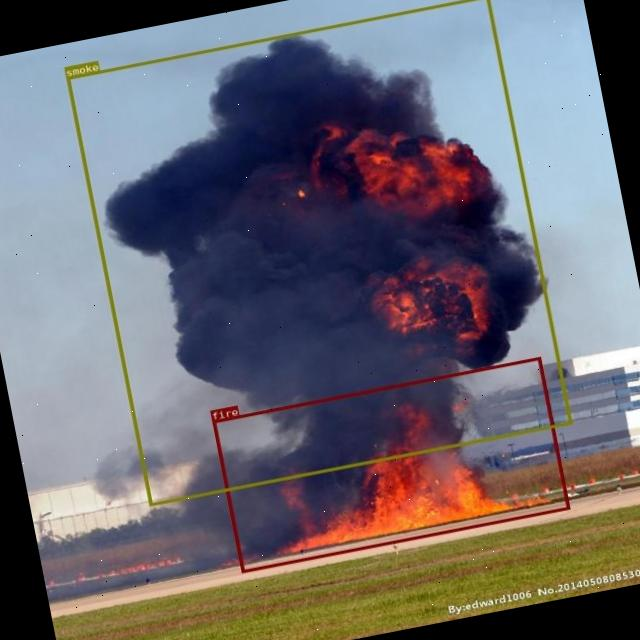fire: (212, 357, 570, 572)
smoke: (66, 0, 571, 506)
